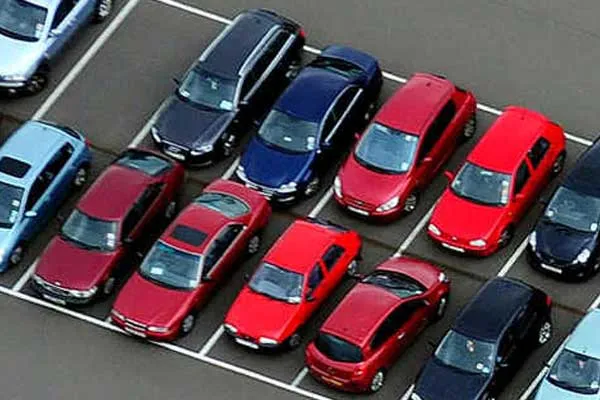Car: (110, 179, 272, 341), (149, 9, 306, 168), (31, 147, 185, 307), (232, 45, 383, 206), (333, 73, 478, 221), (426, 106, 567, 256), (304, 254, 451, 393), (222, 217, 365, 351), (408, 277, 553, 400), (0, 119, 91, 274), (525, 135, 600, 282), (0, 0, 115, 95), (526, 295, 600, 400)
